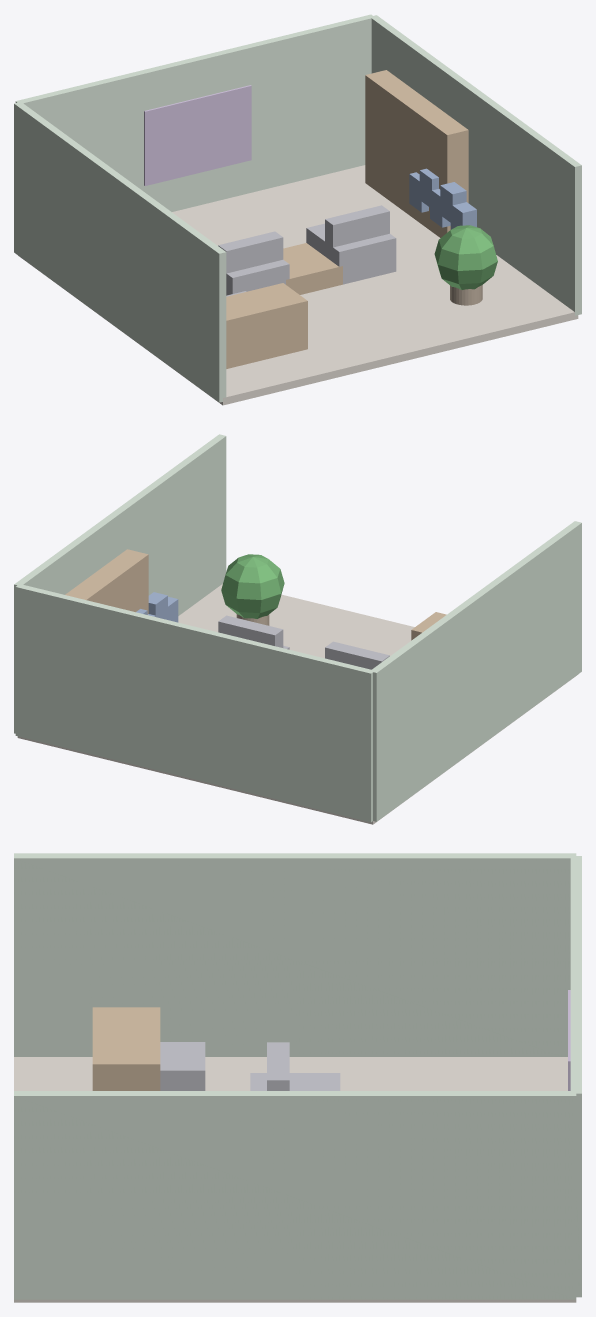
File: ruang.tunggu-1.glb
3 views of the same model, one above another, from view 1: azimuth 30°, elevation 25°; view 2: azimuth 150°, elevation 25°; view 3: azimuth 270°, elevation 25° (orthographic). The views are drawn at different scales.
Visible parts, largest first — view 1: DR_Dinding_Kiri, DR_Dinding_Belakang, DR_Lantai, DR_Dinding_Kanan, DR_RakBuku, DR_Lukisan, DR_MejaKerja, DR_Tanaman, DR_Sofa_2, DR_MejaKopi, DR_Sofa_2_Back, DR_Sofa_1_Back (+6 smaller); view 2: DR_Dinding_Belakang, DR_Dinding_Kiri, DR_Dinding_Kanan, DR_Lantai, DR_RakBuku, DR_Tanaman, DR_Sofa_2_Back, DR_Sofa_1_Back; view 3: DR_Dinding_Kanan, DR_Dinding_Kiri, DR_Lantai, DR_MejaKerja, DR_Dinding_Belakang, DR_KursiKerja, DR_Sofa_1, DR_Sofa_1_Back.
Part boxes in pixels (box(x1,y1,x2,y2)): DR_Dinding_Kiri: box(14, 102, 226, 402); DR_Dinding_Belakang: box(15, 14, 374, 211); DR_Lantai: box(18, 165, 578, 405); DR_Dinding_Kanan: box(370, 15, 581, 315); DR_RakBuku: box(365, 70, 468, 237); DR_Lukisan: box(144, 85, 251, 185); DR_MejaKerja: box(226, 283, 307, 368); DR_Tanaman: box(434, 225, 497, 289); DR_Sofa_2: box(306, 223, 396, 284); DR_MejaKopi: box(283, 243, 342, 294); DR_Sofa_2_Back: box(325, 205, 389, 247); DR_Sofa_1_Back: box(218, 231, 283, 273); DR_Dinding_Belakang: box(15, 585, 374, 822); DR_Dinding_Kiri: box(371, 521, 581, 821); DR_Dinding_Kanan: box(14, 434, 226, 733); DR_Lantai: box(17, 584, 576, 824); DR_RakBuku: box(65, 549, 148, 614); DR_Tanaman: box(221, 554, 284, 618); DR_Sofa_2_Back: box(218, 615, 283, 647); DR_Sofa_1_Back: box(325, 641, 389, 669); DR_Dinding_Kanan: box(14, 1091, 576, 1299); DR_Dinding_Kiri: box(14, 853, 576, 1056); DR_Lantai: box(14, 1057, 576, 1302); DR_MejaKerja: box(92, 1007, 160, 1090); DR_Dinding_Belakang: box(570, 856, 581, 1297); DR_KursiKerja: box(160, 1042, 205, 1090); DR_Sofa_1: box(250, 1073, 340, 1090); DR_Sofa_1_Back: box(267, 1042, 289, 1090).
Size of the model in its own units: 10.2 by 4.1 by 10.1.
